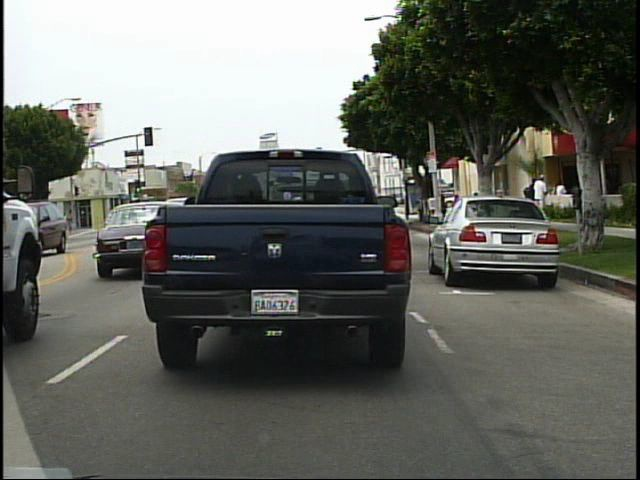person: (530, 173, 554, 223), (551, 177, 573, 224)
